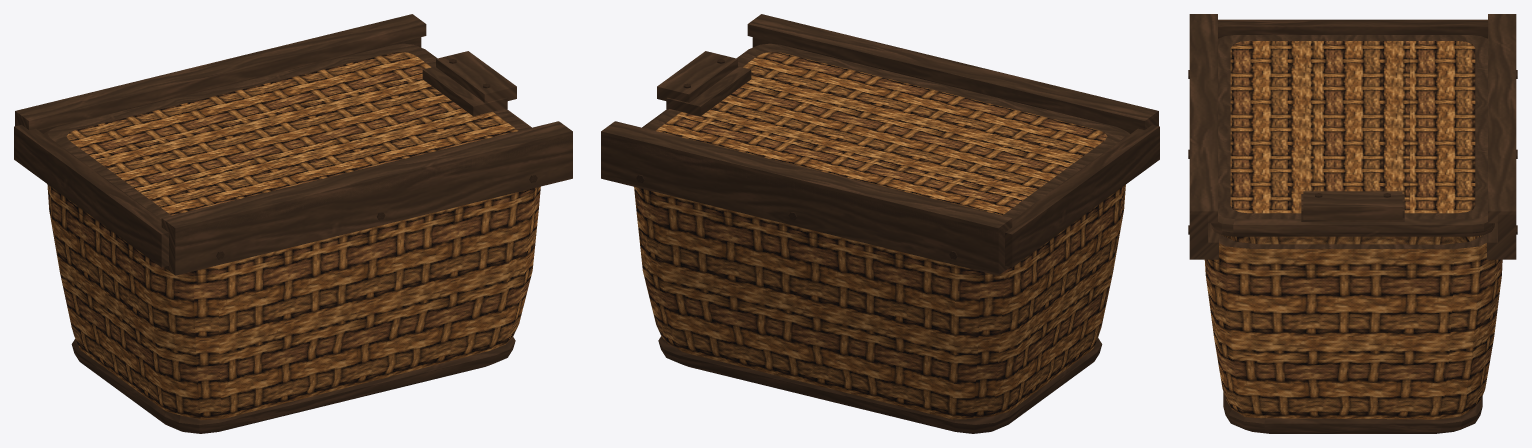
Rendered from Cesto-de-Armazenamento.glb.
3 renders of one model, left to right at view 1: azimuth 30°, elevation 25°; view 2: azimuth 150°, elevation 25°; view 3: azimuth 270°, elevation 25°, orthographic.
Visible parts, largest first — view 1: Corpo de vime, Tampa de vime, Trilhos fixos, Batente de fechamento, Aro inferior, Moldura da tampa, Puxador; view 2: Corpo de vime, Tampa de vime, Trilhos fixos, Batente de fechamento, Aro inferior, Moldura da tampa, Puxador; view 3: Corpo de vime, Tampa de vime, Trilhos fixos, Moldura da tampa, Batente de fechamento, Aro inferior, Puxador, Parede interna, Borda do cesto.
Part boxes in pixels (box(x1,y1,x2,y2)): Corpo de vime: box(47, 184, 540, 419); Tampa de vime: box(66, 52, 518, 215); Trilhos fixos: box(15, 14, 572, 275); Batente de fechamento: box(14, 125, 168, 267); Aro inferior: box(71, 337, 515, 433); Moldura da tampa: box(44, 43, 531, 220); Puxador: box(422, 51, 516, 116); Corpo de vime: box(634, 184, 1125, 419); Tampa de vime: box(655, 52, 1107, 215); Trilhos fixos: box(601, 14, 1158, 275); Batente de fechamento: box(1005, 125, 1159, 267); Aro inferior: box(658, 336, 1102, 433); Moldura da tampa: box(642, 43, 1129, 220); Puxador: box(657, 51, 751, 116); Corpo de vime: box(1204, 243, 1502, 419); Tampa de vime: box(1230, 41, 1475, 213); Trilhos fixos: box(1189, 14, 1516, 259); Moldura da tampa: box(1211, 35, 1494, 236); Batente de fechamento: box(1218, 19, 1487, 38); Aro inferior: box(1223, 392, 1482, 433); Puxador: box(1301, 191, 1404, 221); Parede interna: box(1220, 234, 1482, 244); Borda do cesto: box(1219, 234, 1486, 249).
Size of the model in its own units: 0.653 by 0.371 by 0.452.
Materials: 3 (3 with a texture image).
